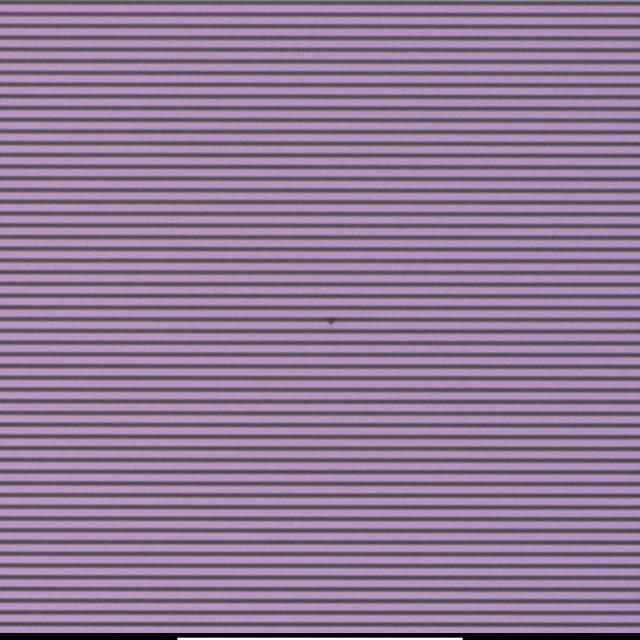03_intrusion: (323, 311, 339, 328)
